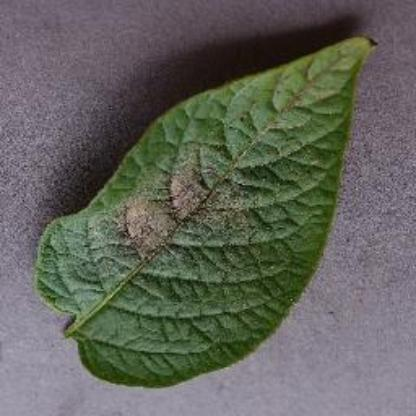Late-Blight: (36, 29, 390, 395)
